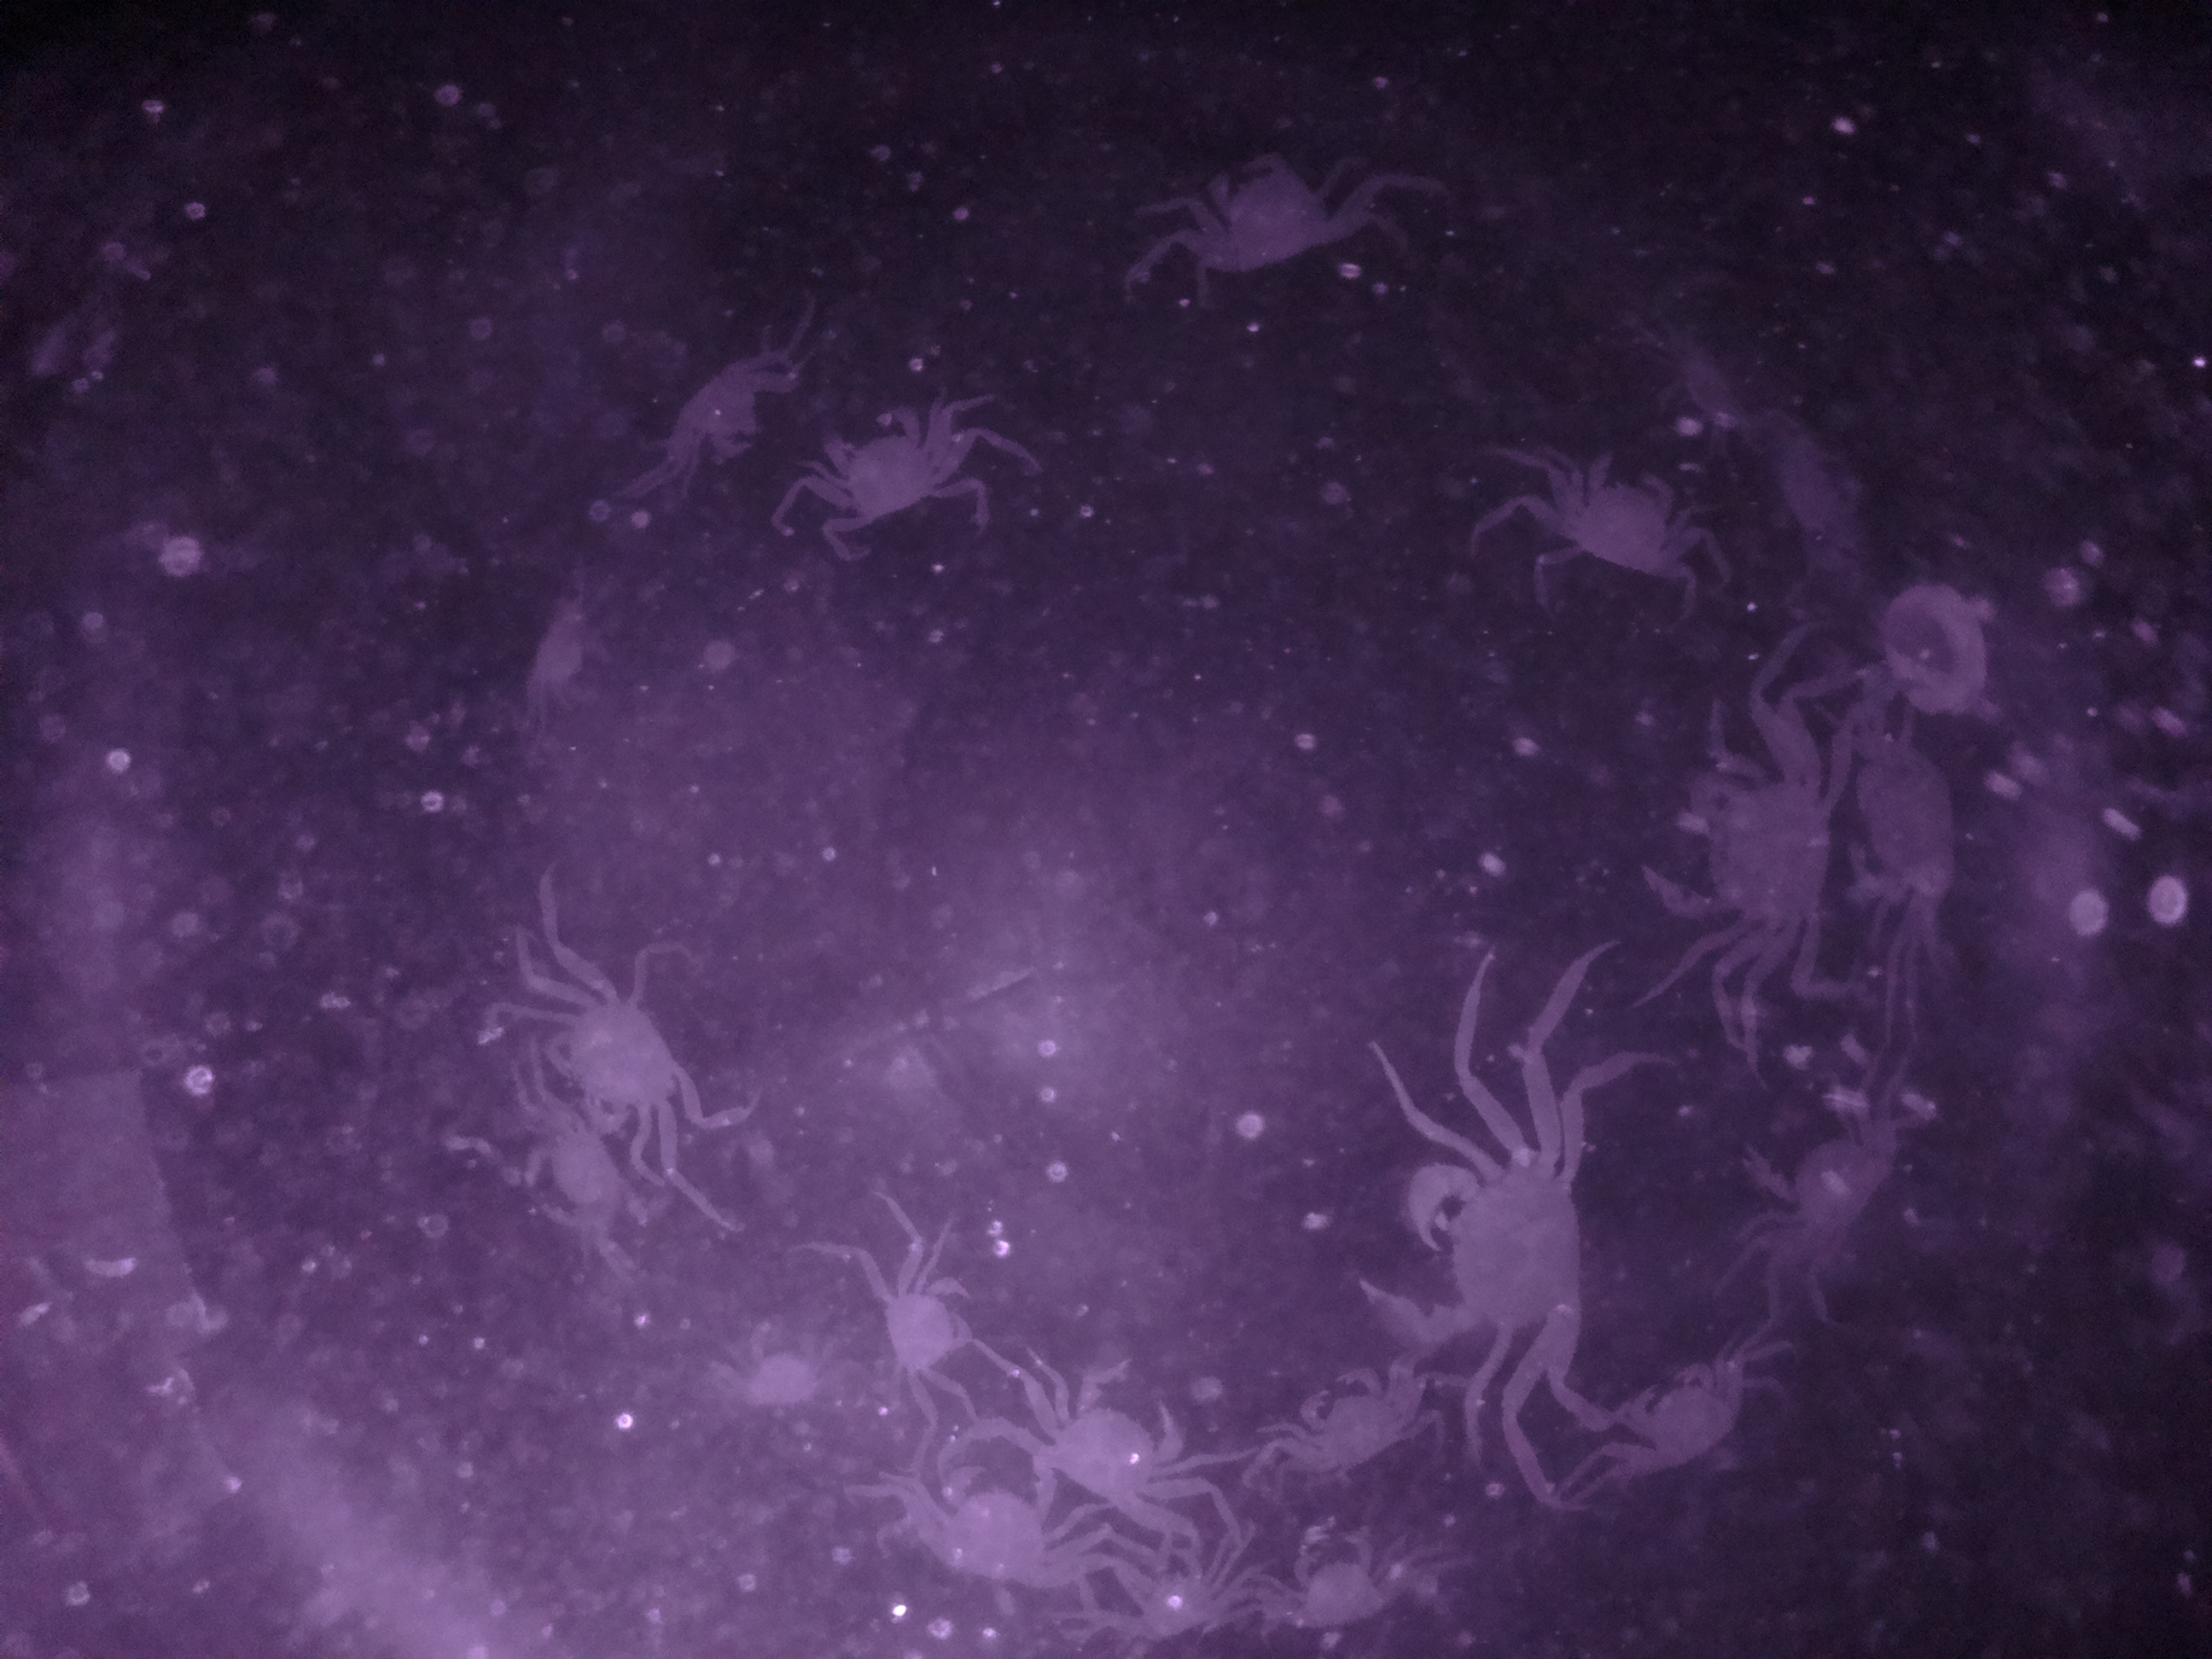Crab: (1350, 1127, 1602, 1382), (1625, 730, 1844, 957), (514, 953, 723, 1161), (1745, 1082, 1914, 1300), (1024, 1338, 1200, 1542), (1841, 716, 1998, 920), (1181, 141, 1346, 291), (1588, 1347, 1754, 1485), (1541, 451, 1700, 594), (810, 387, 951, 547), (1280, 1359, 1433, 1493), (857, 1249, 988, 1394), (1244, 1518, 1390, 1640)
